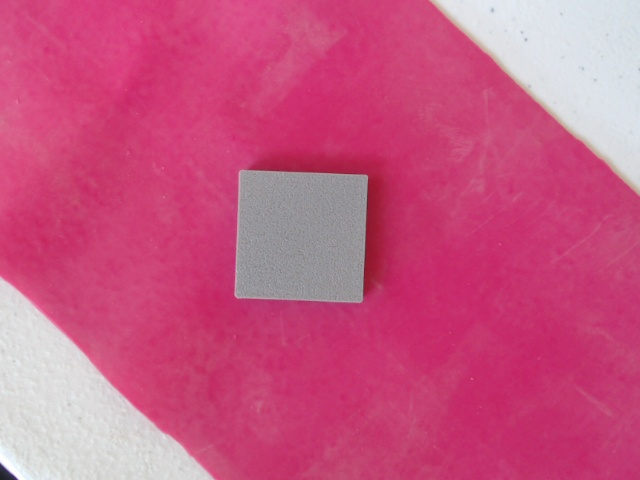Defective: (232, 165, 371, 306)
